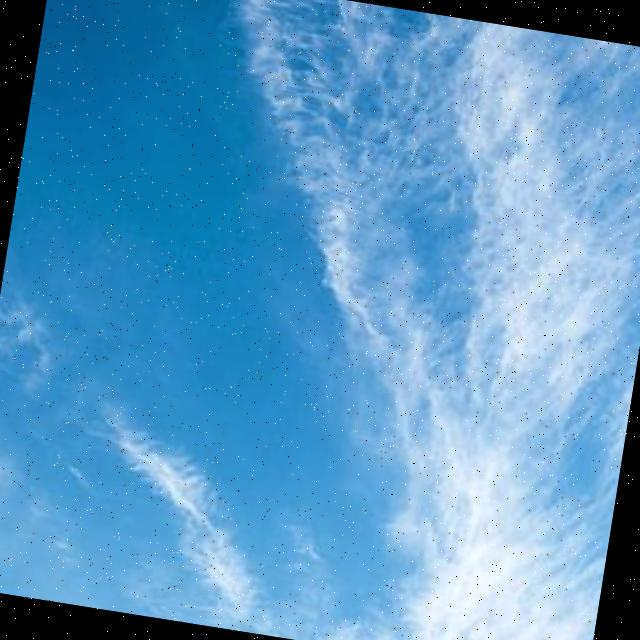As: (171, 1, 640, 640)
